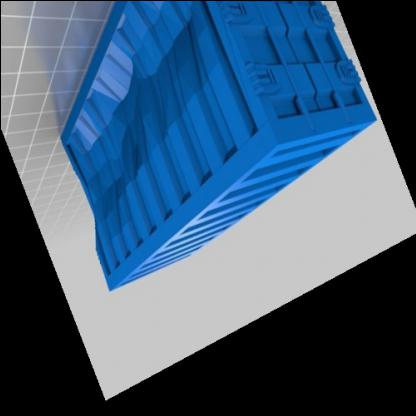Damage: (100, 26, 198, 212)
